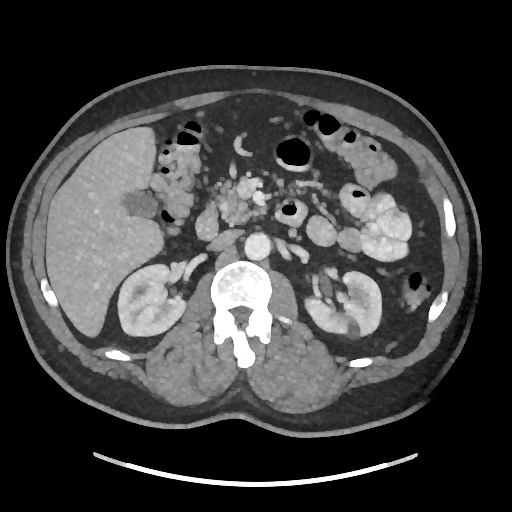Lesion: (344, 318, 362, 339)
